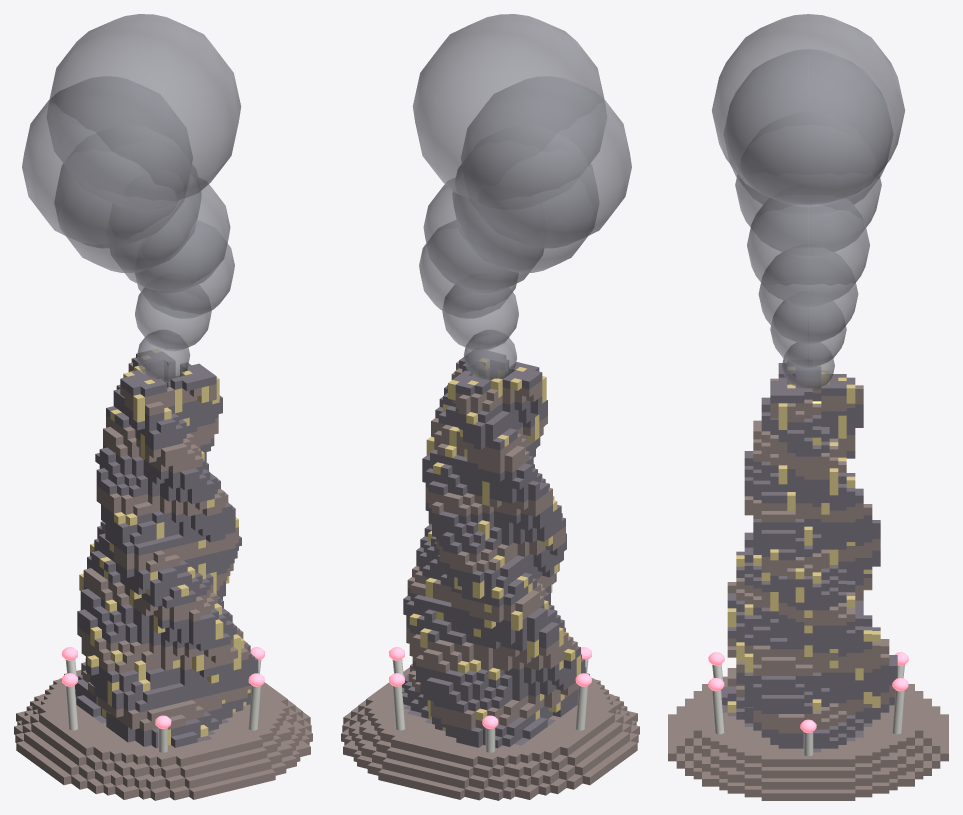
Rendered from E27_Hydrothermal_Vent.glb.
The picture shows the model from 3 angles, left to right: view 1: azimuth 30°, elevation 25°; view 2: azimuth 150°, elevation 25°; view 3: azimuth 270°, elevation 25°; orthographic projection.
Parts seen in each view (by area): view 1: E27_Hydrothermal_Vent_Mesh; view 2: E27_Hydrothermal_Vent_Mesh; view 3: E27_Hydrothermal_Vent_Mesh.
Boxes of the visible parts, x1,y1,x2,y2 form: E27_Hydrothermal_Vent_Mesh: (14,14,312,800); E27_Hydrothermal_Vent_Mesh: (341,14,639,800); E27_Hydrothermal_Vent_Mesh: (668,14,948,800).
Bounding box in the file's own units: 5.44 × 14.72 × 5.28.
